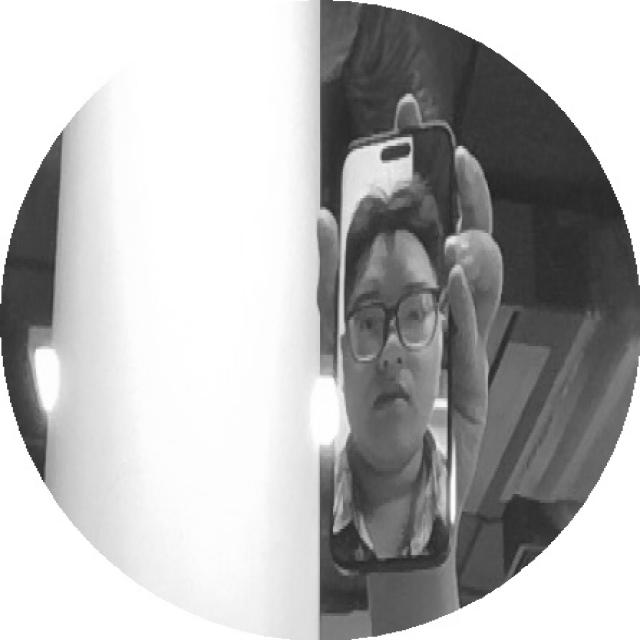fake: (310, 115, 470, 581), (324, 119, 462, 575)
